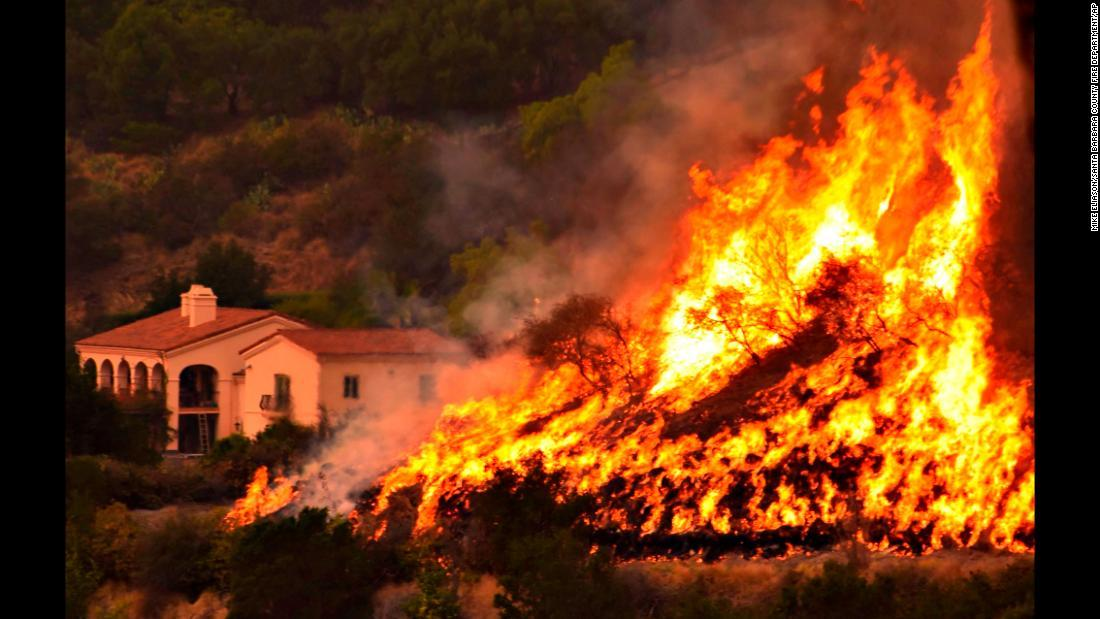Fire: (470, 15, 1038, 556)
